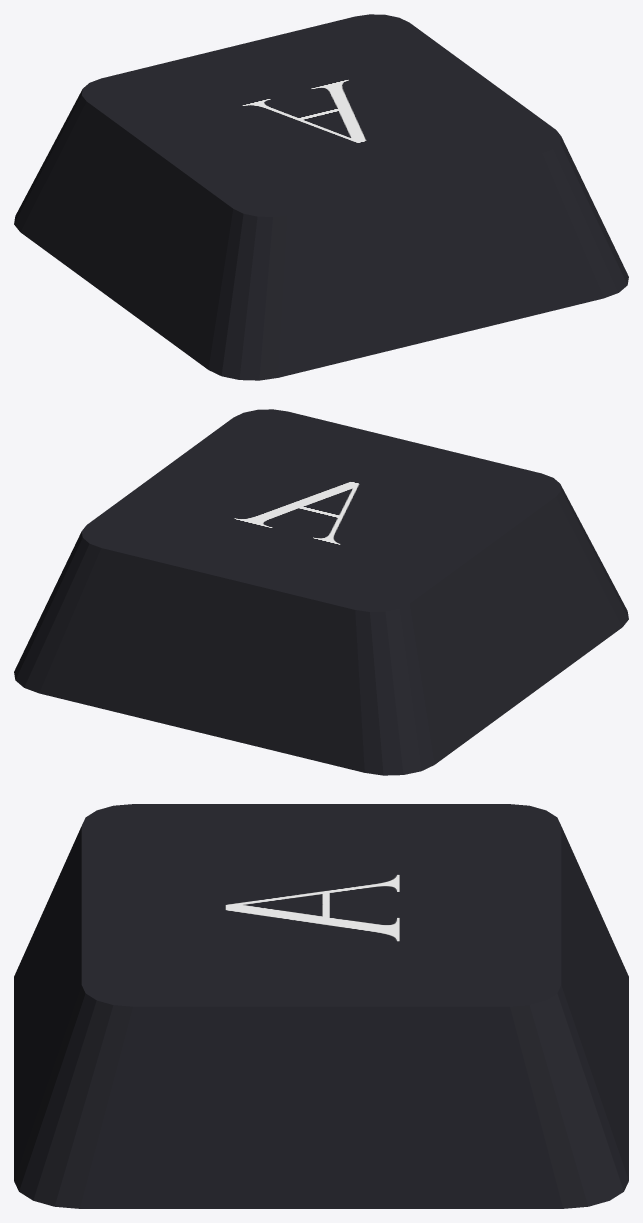
File: KeyBoradA.obj
The picture shows the model from 3 angles, top to bottom: view 1: azimuth 30°, elevation 25°; view 2: azimuth 150°, elevation 25°; view 3: azimuth 270°, elevation 25°; orthographic projection. The views are drawn at different scales.
Visible parts, largest first — view 1: key; view 2: key; view 3: key.
Part boxes in pixels (x1,y1,x2,y2): key: [14, 14, 628, 380]; key: [14, 409, 628, 775]; key: [14, 804, 628, 1208].
Size of the model in its own units: 2 by 0.6227 by 2.
Materials: 1 (1 with a texture image).
